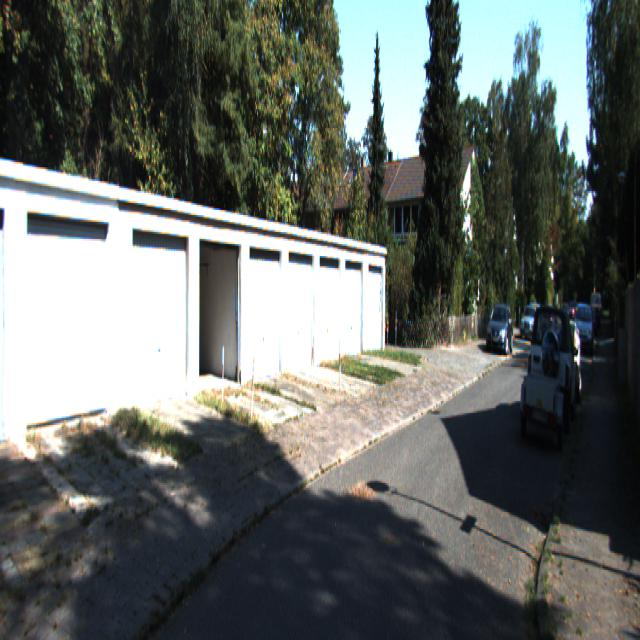Car: (528, 301, 578, 429), (521, 362, 561, 440), (486, 304, 515, 355)
